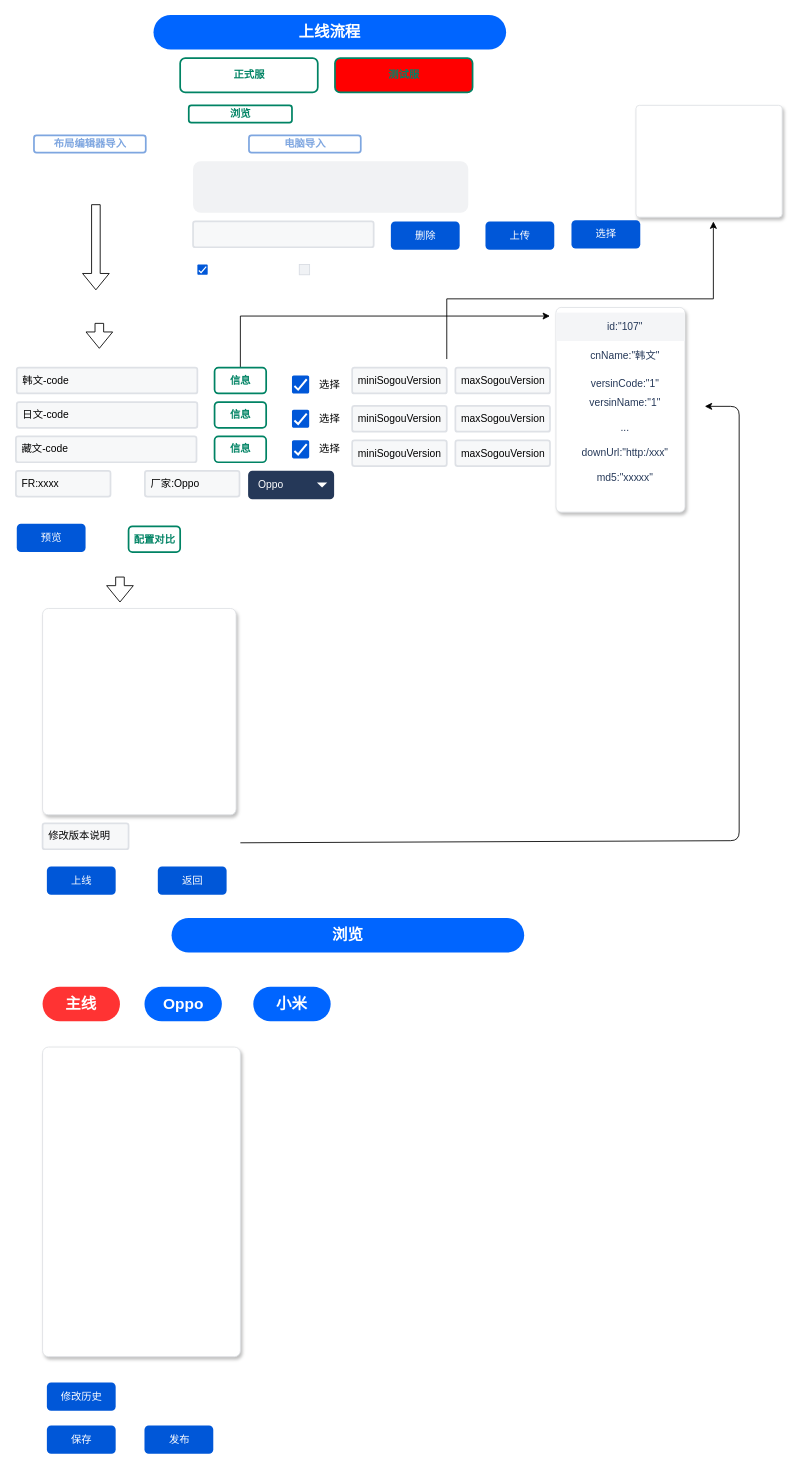
This 802x1468 diagram has some shape labels left out. Here are the shapes that lost their labels. From the top down, the centre of each, then its label:
the point at 709,162: 同min max版本具有替换功能，如果没有，具有插入功能。修改的内容可以从下面预览到。 确认修改无误，才走到上线发布流程。
the point at 330,186: 推拽文件到这里...
the point at 202,269: 自定义文件名
the point at 304,269: 覆盖同名文件
the point at 139,712: 服务器json文件和预上线修改对比
the point at 142,1203: Json配置文件
